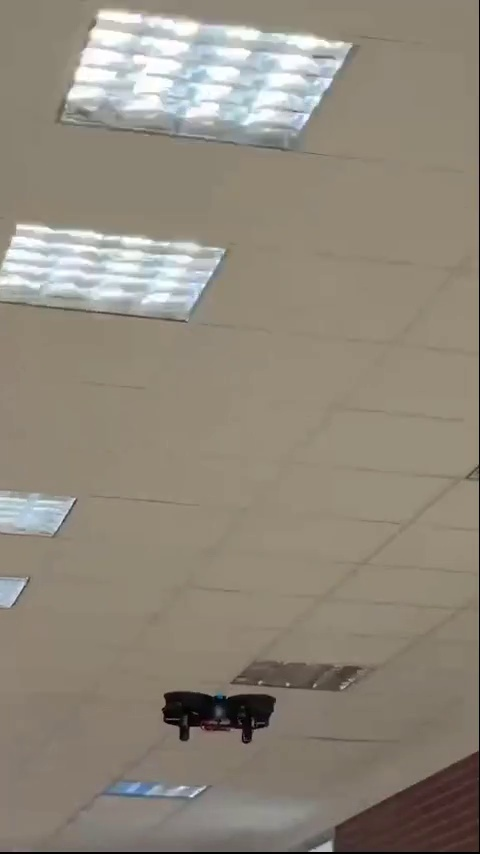drone: (156, 689, 277, 743)
